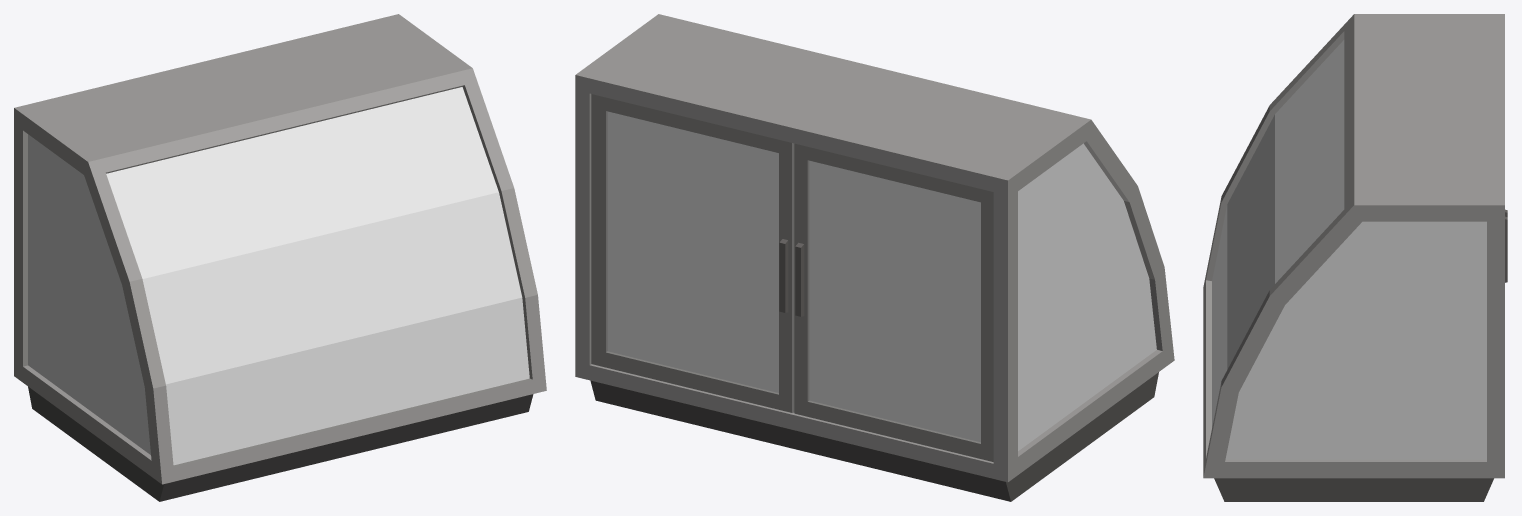
Rendered from SM_Props_Interior_SuperMarket_Display_Mini_Preset_02.fbx.
3 renders of one model, left to right at view 1: azimuth 30°, elevation 25°; view 2: azimuth 150°, elevation 25°; view 3: azimuth 270°, elevation 25°, orthographic. The views are drawn at different scales.
Visible parts, largest first — view 1: SM_Props_Interior_SuperMarket_Display_Mini_Preset_02; view 2: SM_Props_Interior_SuperMarket_Display_Mini_Preset_02; view 3: SM_Props_Interior_SuperMarket_Display_Mini_Preset_02.
Boxes of the visible parts, x1=… form: SM_Props_Interior_SuperMarket_Display_Mini_Preset_02: x1=14, y1=14, x2=546, y2=501; SM_Props_Interior_SuperMarket_Display_Mini_Preset_02: x1=575, y1=14, x2=1174, y2=501; SM_Props_Interior_SuperMarket_Display_Mini_Preset_02: x1=1203, y1=14, x2=1507, y2=501.
Size of the model in its own units: 75 by 55 by 50.44.
